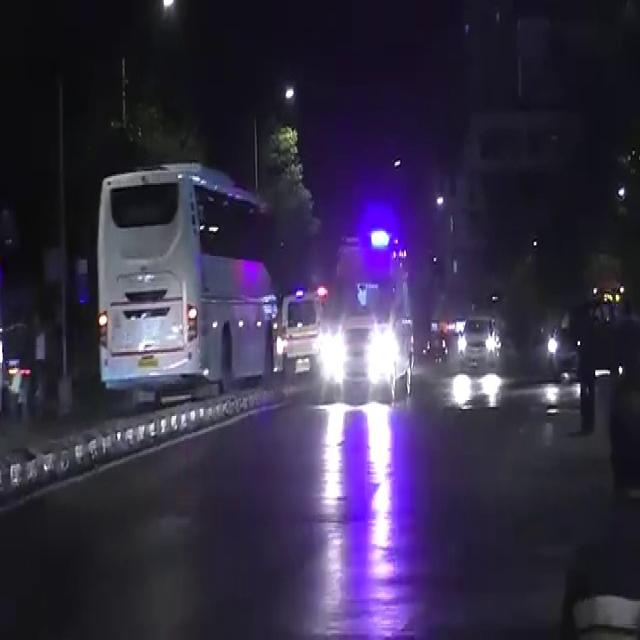ambulance: (317, 232, 426, 414)
